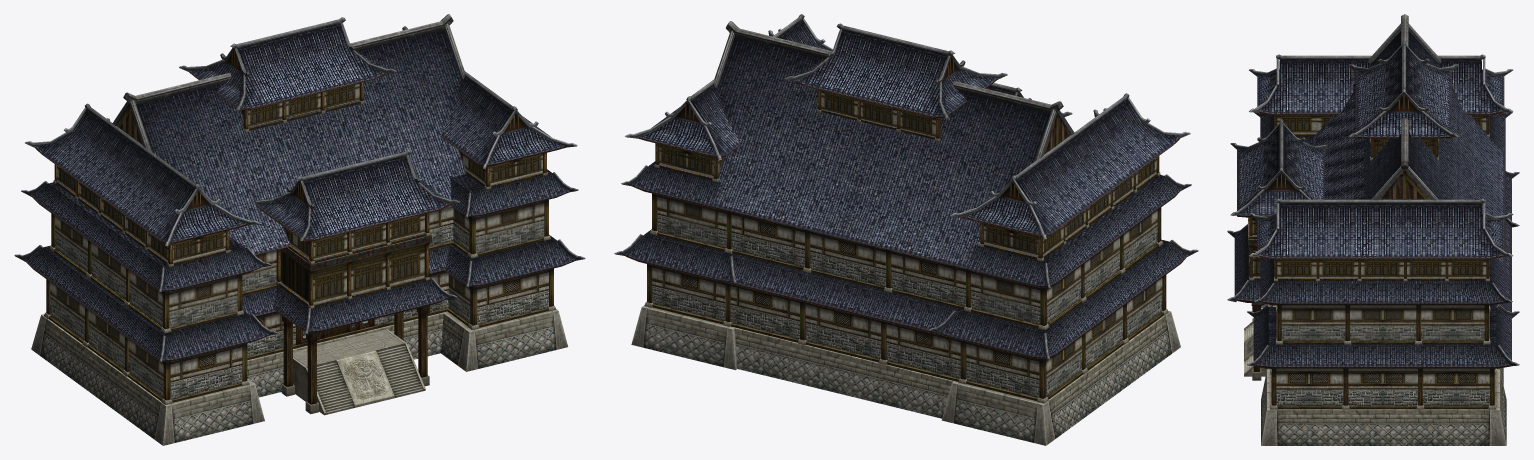
Rendered from b1-006-castle.glb.
3 views of the same model, side by side, from view 1: azimuth 30°, elevation 25°; view 2: azimuth 150°, elevation 25°; view 3: azimuth 270°, elevation 25° (orthographic). The views are drawn at different scales.
Visible parts, largest first — view 1: b1-006-castle-01, b1-006-castle-02, b1-006-castle-04, b1-006-castle-03, b1-006-castle-05; view 2: b1-006-castle-01, b1-006-castle-04, b1-006-castle-02, b1-006-castle-05, b1-006-castle-03; view 3: b1-006-castle-02, b1-006-castle-01, b1-006-castle-04, b1-006-castle-05, b1-006-castle-03.
Boxes of the visible parts, x1,y1,x2,y2 form: b1-006-castle-01: (24, 14, 574, 361); b1-006-castle-02: (35, 17, 565, 308); b1-006-castle-04: (14, 172, 585, 404); b1-006-castle-03: (25, 30, 577, 415); b1-006-castle-05: (31, 305, 568, 445); b1-006-castle-01: (625, 21, 1188, 359); b1-006-castle-04: (614, 165, 1198, 403); b1-006-castle-02: (639, 14, 1180, 261); b1-006-castle-05: (631, 305, 1180, 445); b1-006-castle-03: (625, 18, 1190, 256); b1-006-castle-02: (1230, 40, 1504, 281); b1-006-castle-01: (1234, 14, 1511, 368); b1-006-castle-04: (1227, 112, 1519, 409); b1-006-castle-05: (1251, 303, 1506, 445); b1-006-castle-03: (1244, 58, 1513, 376).
Size of the model in its own units: 42.29 by 29.42 by 27.03.
5 materials, 5 textured.
